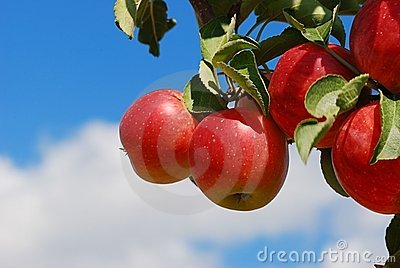apple: (190, 107, 286, 211), (119, 88, 196, 184)
obscured(1)_apple: (352, 1, 400, 95)
obscured(2)_apple: (331, 100, 400, 214)
obscured(3)_apple: (267, 38, 368, 148)
